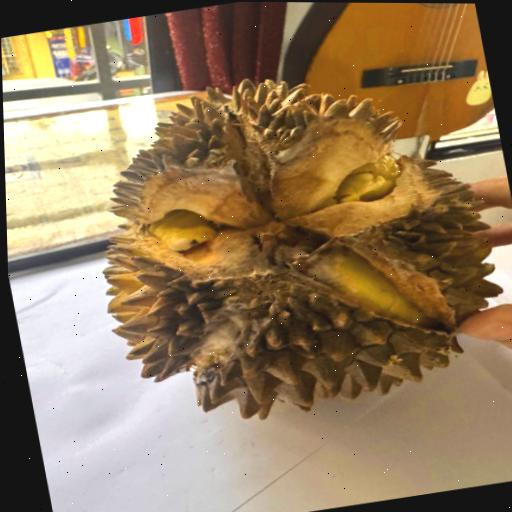rot: (36, 36, 512, 469)
